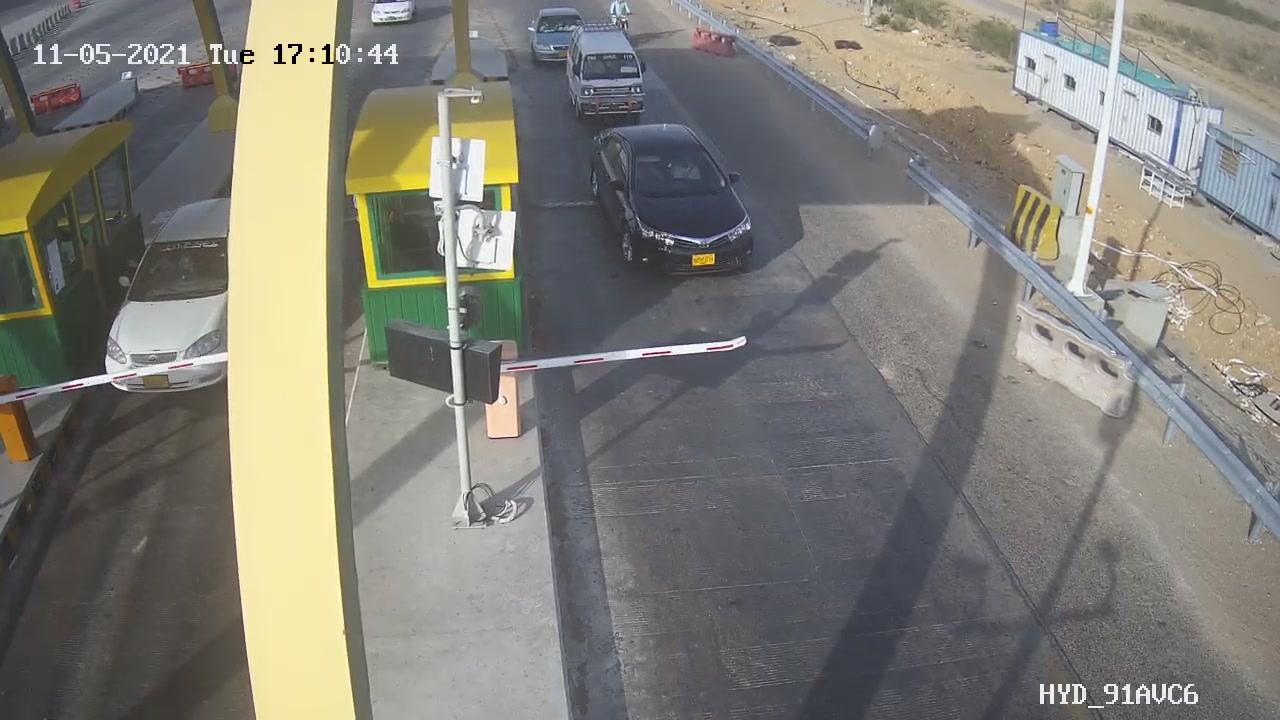F1: (568, 111, 785, 294), (548, 13, 661, 133)
